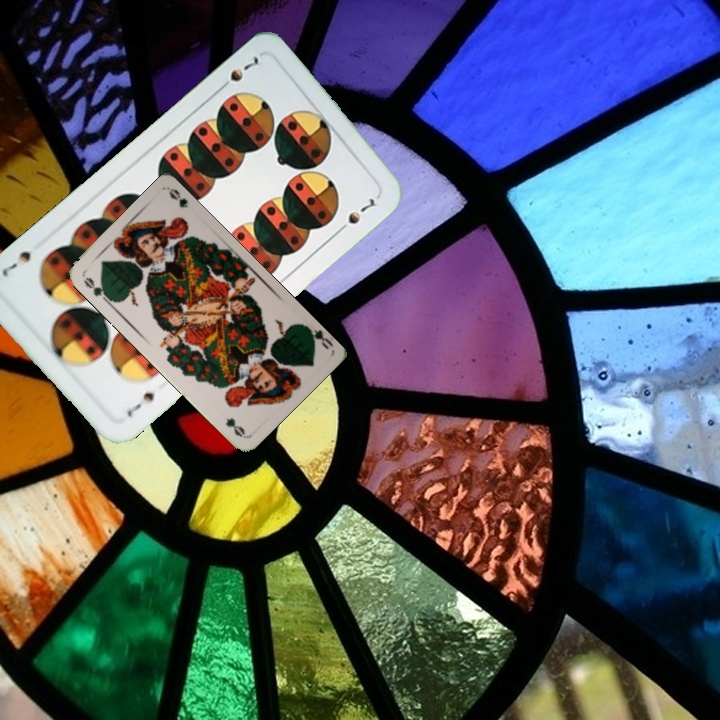GO: (79, 273, 113, 306), (299, 321, 334, 352)
S7: (213, 52, 261, 95), (123, 387, 158, 420)
